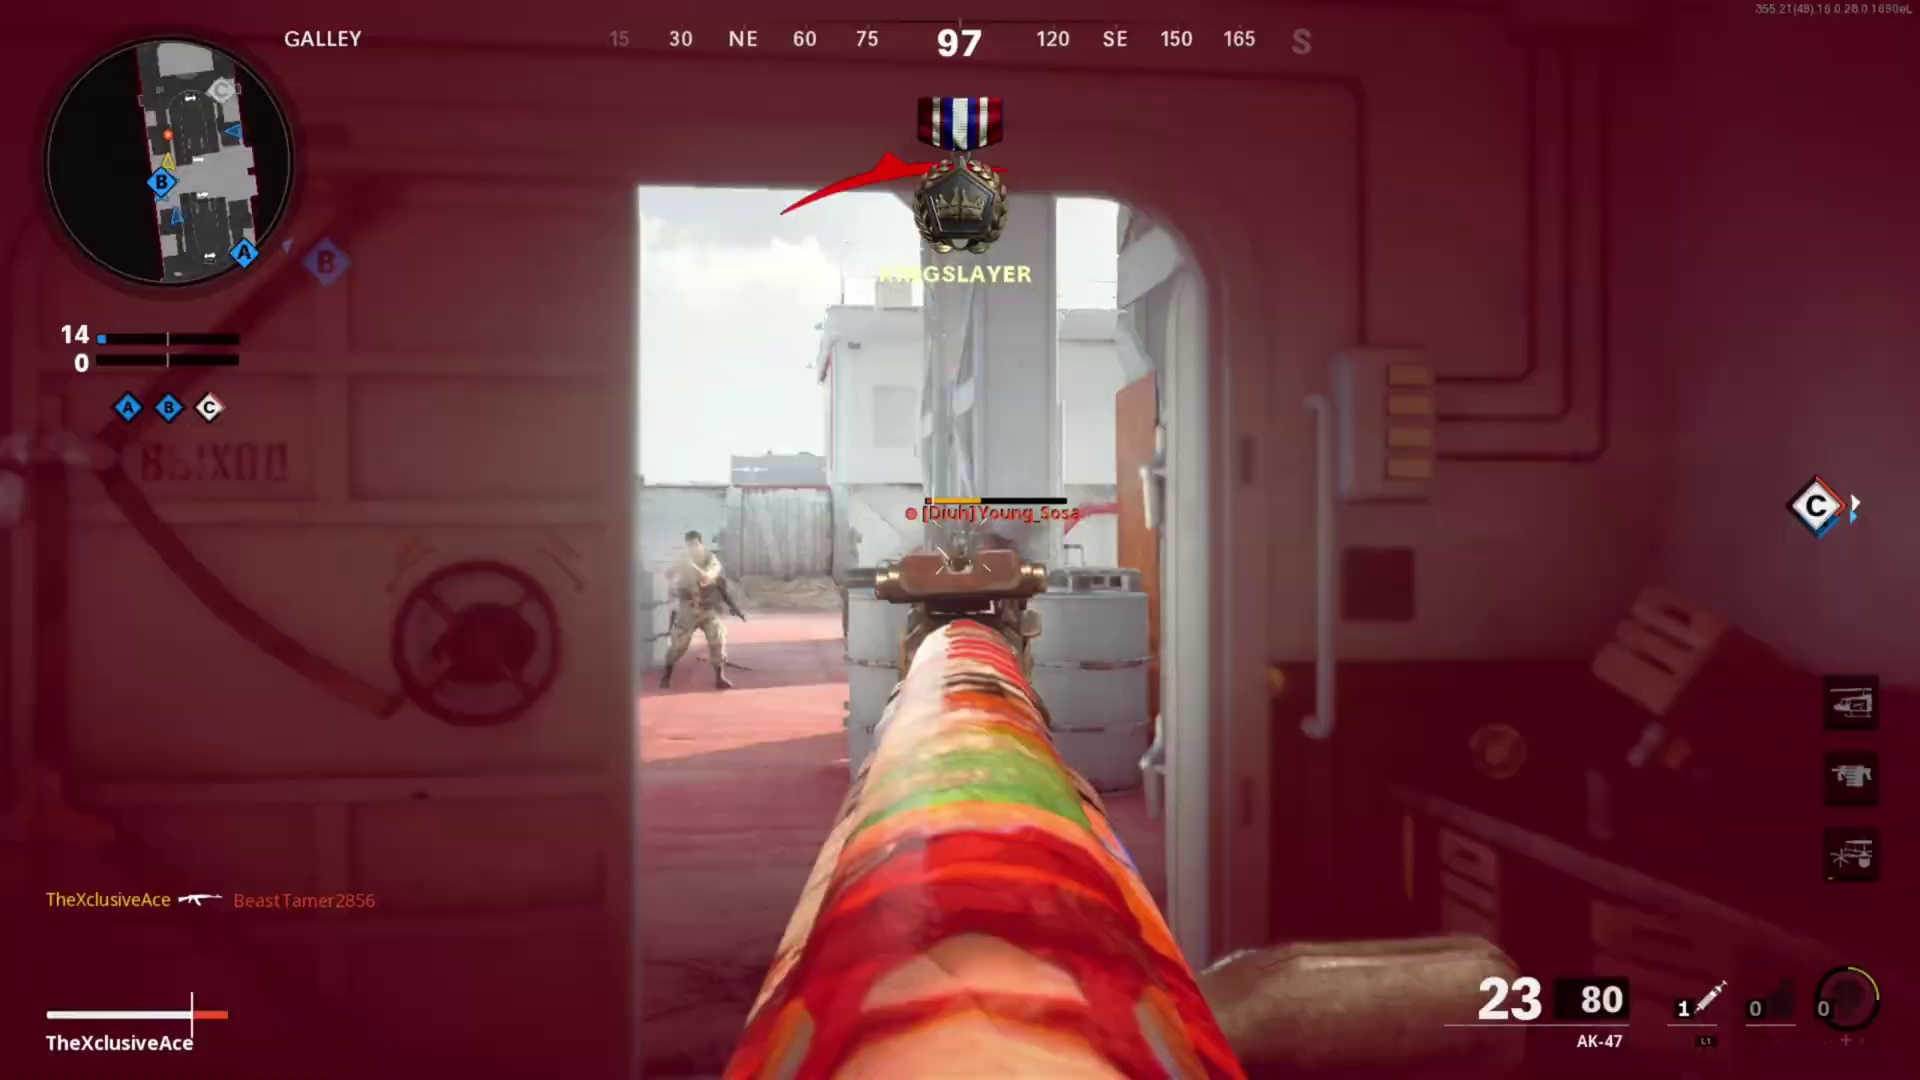head: (679, 526, 709, 564)
person: (653, 529, 747, 687)
